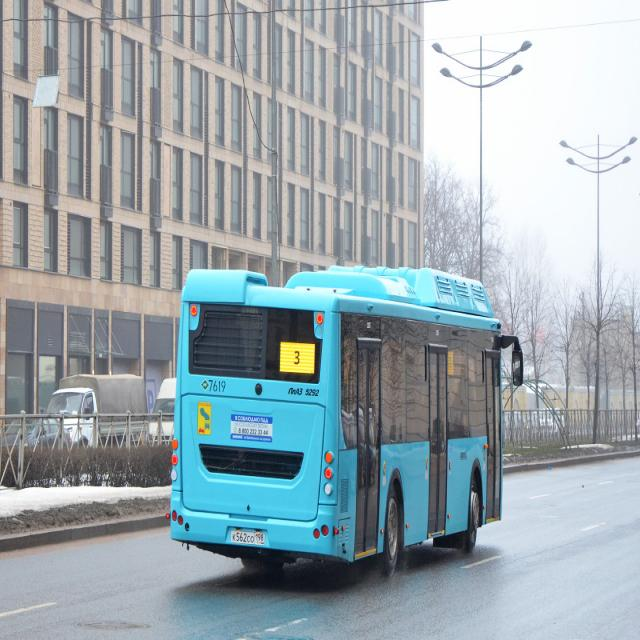number-of-bus: (284, 346, 311, 372)
